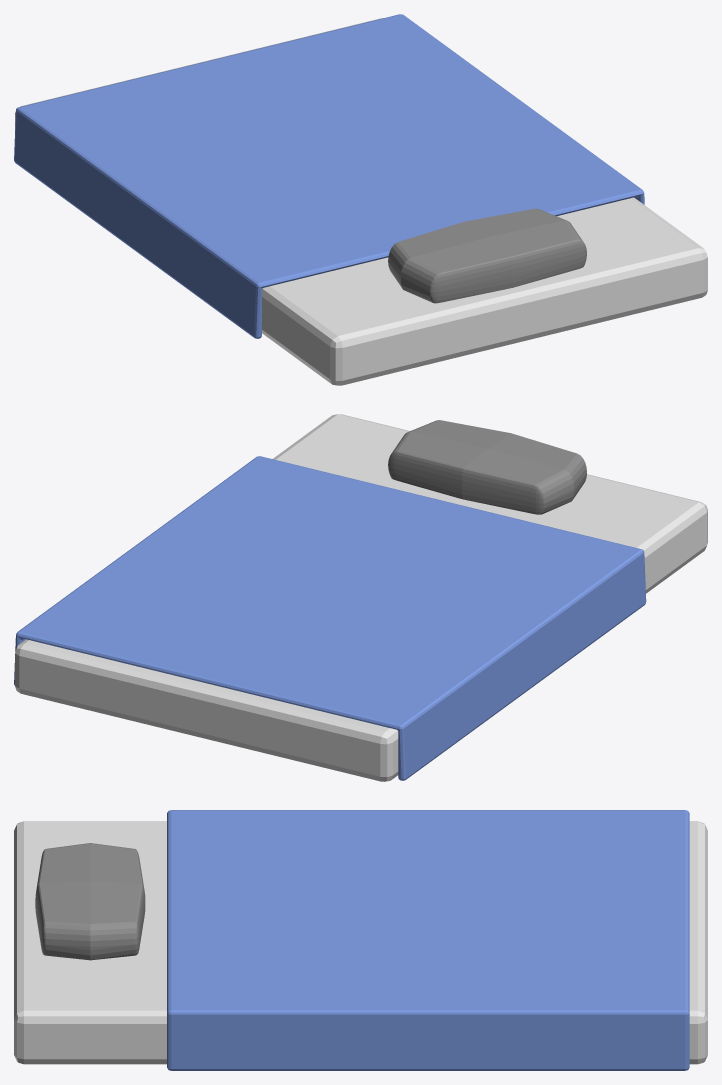
The model's file is bedding.glb.
3 renders of one model, top to bottom at view 1: azimuth 30°, elevation 25°; view 2: azimuth 150°, elevation 25°; view 3: azimuth 270°, elevation 25°, orthographic. The views are drawn at different scales.
Visible parts, largest first — view 1: BedBlanket, BedMatress, BedPillow; view 2: BedBlanket, BedMatress, BedPillow; view 3: BedBlanket, BedMatress, BedPillow.
Part boxes in pixels (<box>): BedBlanket: <box>14,14,644,338</box>; BedMatress: <box>15,18,707,385</box>; BedPillow: <box>388,208,586,303</box>; BedBlanket: <box>14,456,646,780</box>; BedMatress: <box>15,414,707,781</box>; BedPillow: <box>388,420,586,514</box>; BedBlanket: <box>167,810,689,1070</box>; BedMatress: <box>14,821,707,1064</box>; BedPillow: <box>35,843,145,960</box>.
Bounding box in the file's own units: 0.731 × 0.1461 × 1.05.
